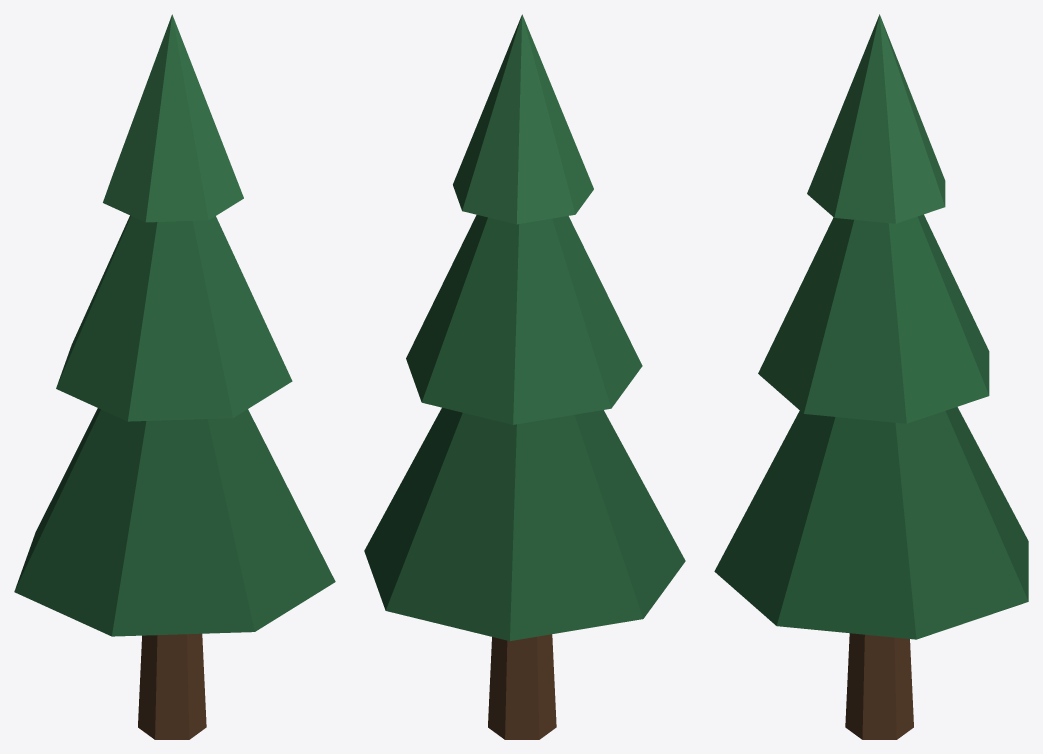
Rendered from tree_pine_02.glb.
3 renders of one model, left to right at view 1: azimuth 30°, elevation 25°; view 2: azimuth 150°, elevation 25°; view 3: azimuth 270°, elevation 25°, orthographic.
Visible parts, largest first — view 1: tree_pine_02_part1, tree_pine_02_part2, tree_pine_02_part3, tree_pine_02_part0; view 2: tree_pine_02_part1, tree_pine_02_part2, tree_pine_02_part3, tree_pine_02_part0; view 3: tree_pine_02_part1, tree_pine_02_part2, tree_pine_02_part3, tree_pine_02_part0.
Boxes of the visible parts, bbox=[...] form: tree_pine_02_part1: bbox=[14, 408, 335, 636]; tree_pine_02_part2: bbox=[56, 215, 292, 421]; tree_pine_02_part3: bbox=[103, 14, 243, 222]; tree_pine_02_part0: bbox=[138, 633, 206, 739]; tree_pine_02_part1: bbox=[364, 407, 685, 640]; tree_pine_02_part2: bbox=[406, 215, 642, 424]; tree_pine_02_part3: bbox=[453, 14, 593, 224]; tree_pine_02_part0: bbox=[488, 634, 556, 739]; tree_pine_02_part1: bbox=[714, 407, 1028, 639]; tree_pine_02_part2: bbox=[758, 214, 989, 423]; tree_pine_02_part3: bbox=[807, 14, 945, 223]; tree_pine_02_part0: bbox=[845, 633, 913, 739].
Bounding box in the file's own units: 2.44 × 5.95 × 2.38.
